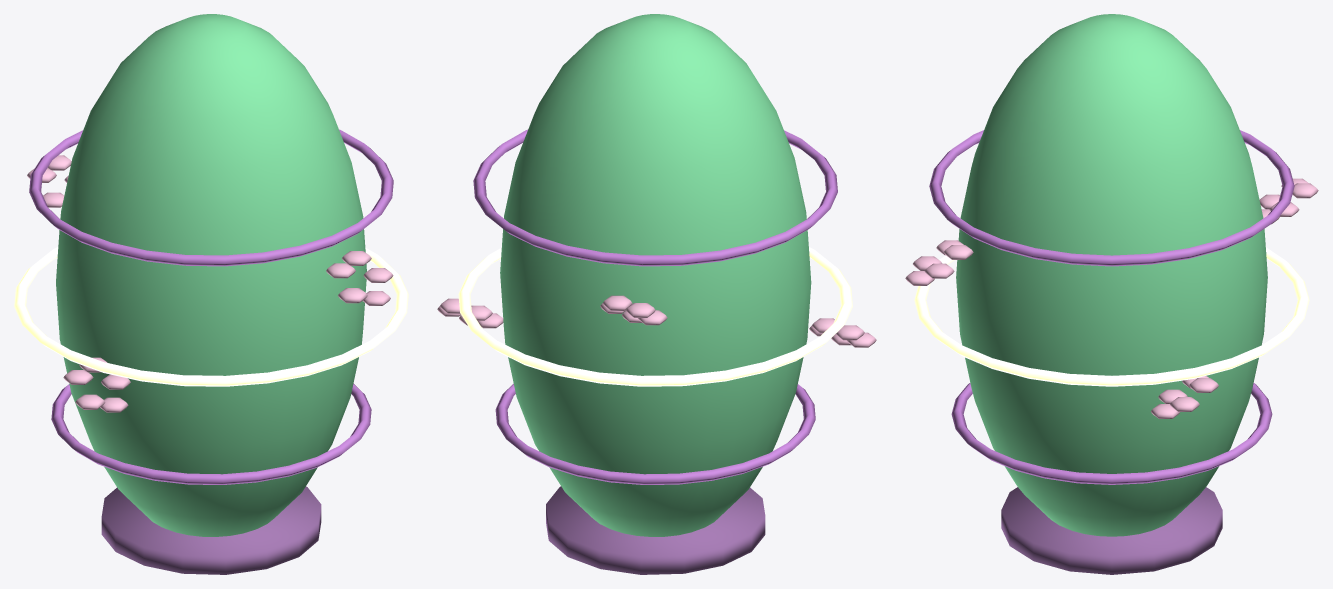
Rendered from egg_alien_02.glb.
The picture shows the model from 3 angles, left to right: view 1: azimuth 30°, elevation 25°; view 2: azimuth 150°, elevation 25°; view 3: azimuth 270°, elevation 25°; orthographic projection.
Parts seen in each view (by area): view 1: ball; view 2: ball; view 3: ball.
Boxes of the visible parts, x1,y1,x2,y2 form: ball: (14, 14, 408, 574); ball: (437, 14, 876, 574); ball: (905, 14, 1318, 574).
Bounding box in the file's own units: 0.8102 × 1.12 × 0.8219.
